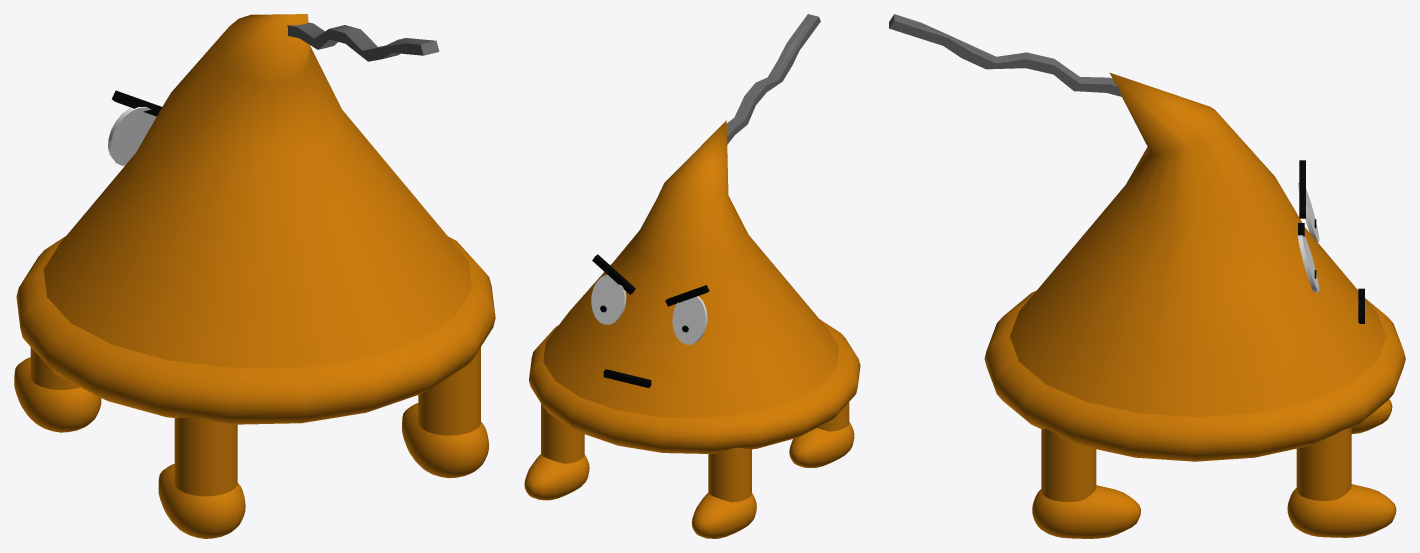
File: kissBombModel.fbx
3 renders of one model, left to right at view 1: azimuth 30°, elevation 25°; view 2: azimuth 150°, elevation 25°; view 3: azimuth 270°, elevation 25°, orthographic. The views are drawn at different scales.
Parts seen in each view (by area): view 1: pCone1, pTorus1, pSphere1 (×3), pCylinder1 (×3), pCube1, pCylinder3; view 2: pCone1, pTorus1, pSphere1 (×3), pCylinder1 (×3), pCube1, pCylinder3, pCylinder2, pCube2, pCube4; view 3: pCone1, pTorus1, pSphere1 (×2), pCylinder1 (×2), pCube1.
Part boxes in pixels (x1,y1,x2,y2): pCone1: (43, 14, 471, 368); pTorus1: (16, 236, 495, 424); pSphere1 (×3): (14, 357, 489, 538); pCylinder1 (×3): (30, 347, 480, 496); pCube1: (287, 22, 439, 61); pCylinder3: (108, 106, 156, 165); pCone1: (543, 120, 839, 417); pTorus1: (529, 319, 860, 453); pSphere1 (×3): (524, 422, 854, 538); pCylinder1 (×3): (541, 402, 849, 502); pCube1: (726, 14, 820, 144); pCylinder3: (672, 296, 707, 344); pCylinder2: (591, 274, 626, 324); pCube2: (592, 254, 635, 294); pCube4: (603, 369, 651, 387); pCone1: (1009, 72, 1386, 417); pTorus1: (984, 290, 1405, 461); pSphere1 (×2): (1032, 484, 1396, 538); pCylinder1 (×2): (1041, 428, 1351, 502); pCube1: (889, 14, 1122, 96).
Size of the model in its own units: 43.28 by 52.96 by 53.07.
